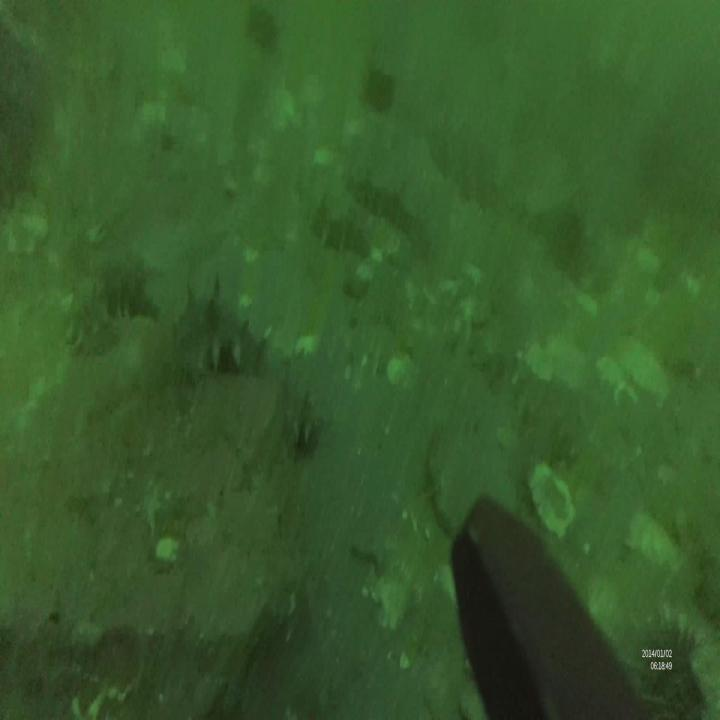echinus: (645, 616, 710, 720), (547, 203, 583, 266), (361, 65, 395, 112), (246, 4, 277, 54)
holothurian: (166, 280, 270, 379), (344, 161, 431, 251), (96, 255, 162, 325), (280, 367, 326, 466), (311, 198, 366, 264), (71, 292, 115, 358)
